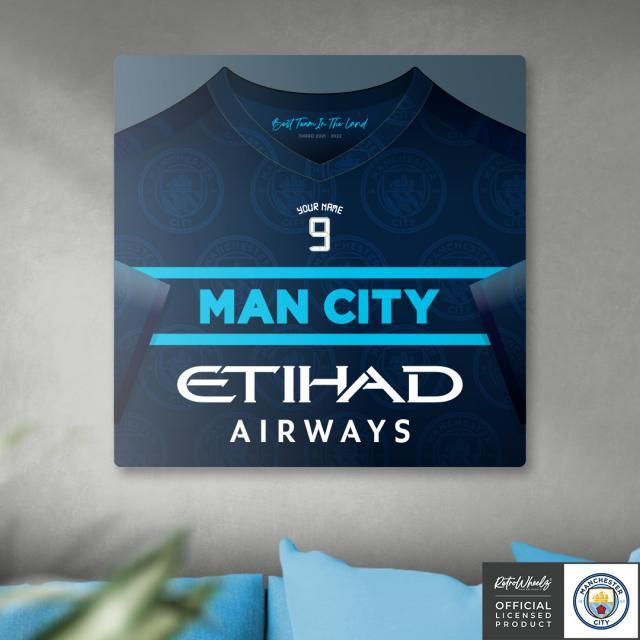Etihad Airways: (175, 361, 464, 446)
